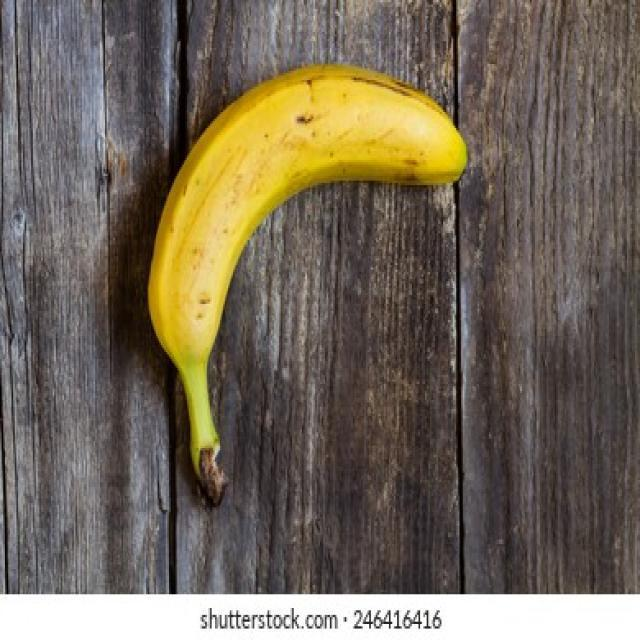Banana: (139, 56, 473, 518)
